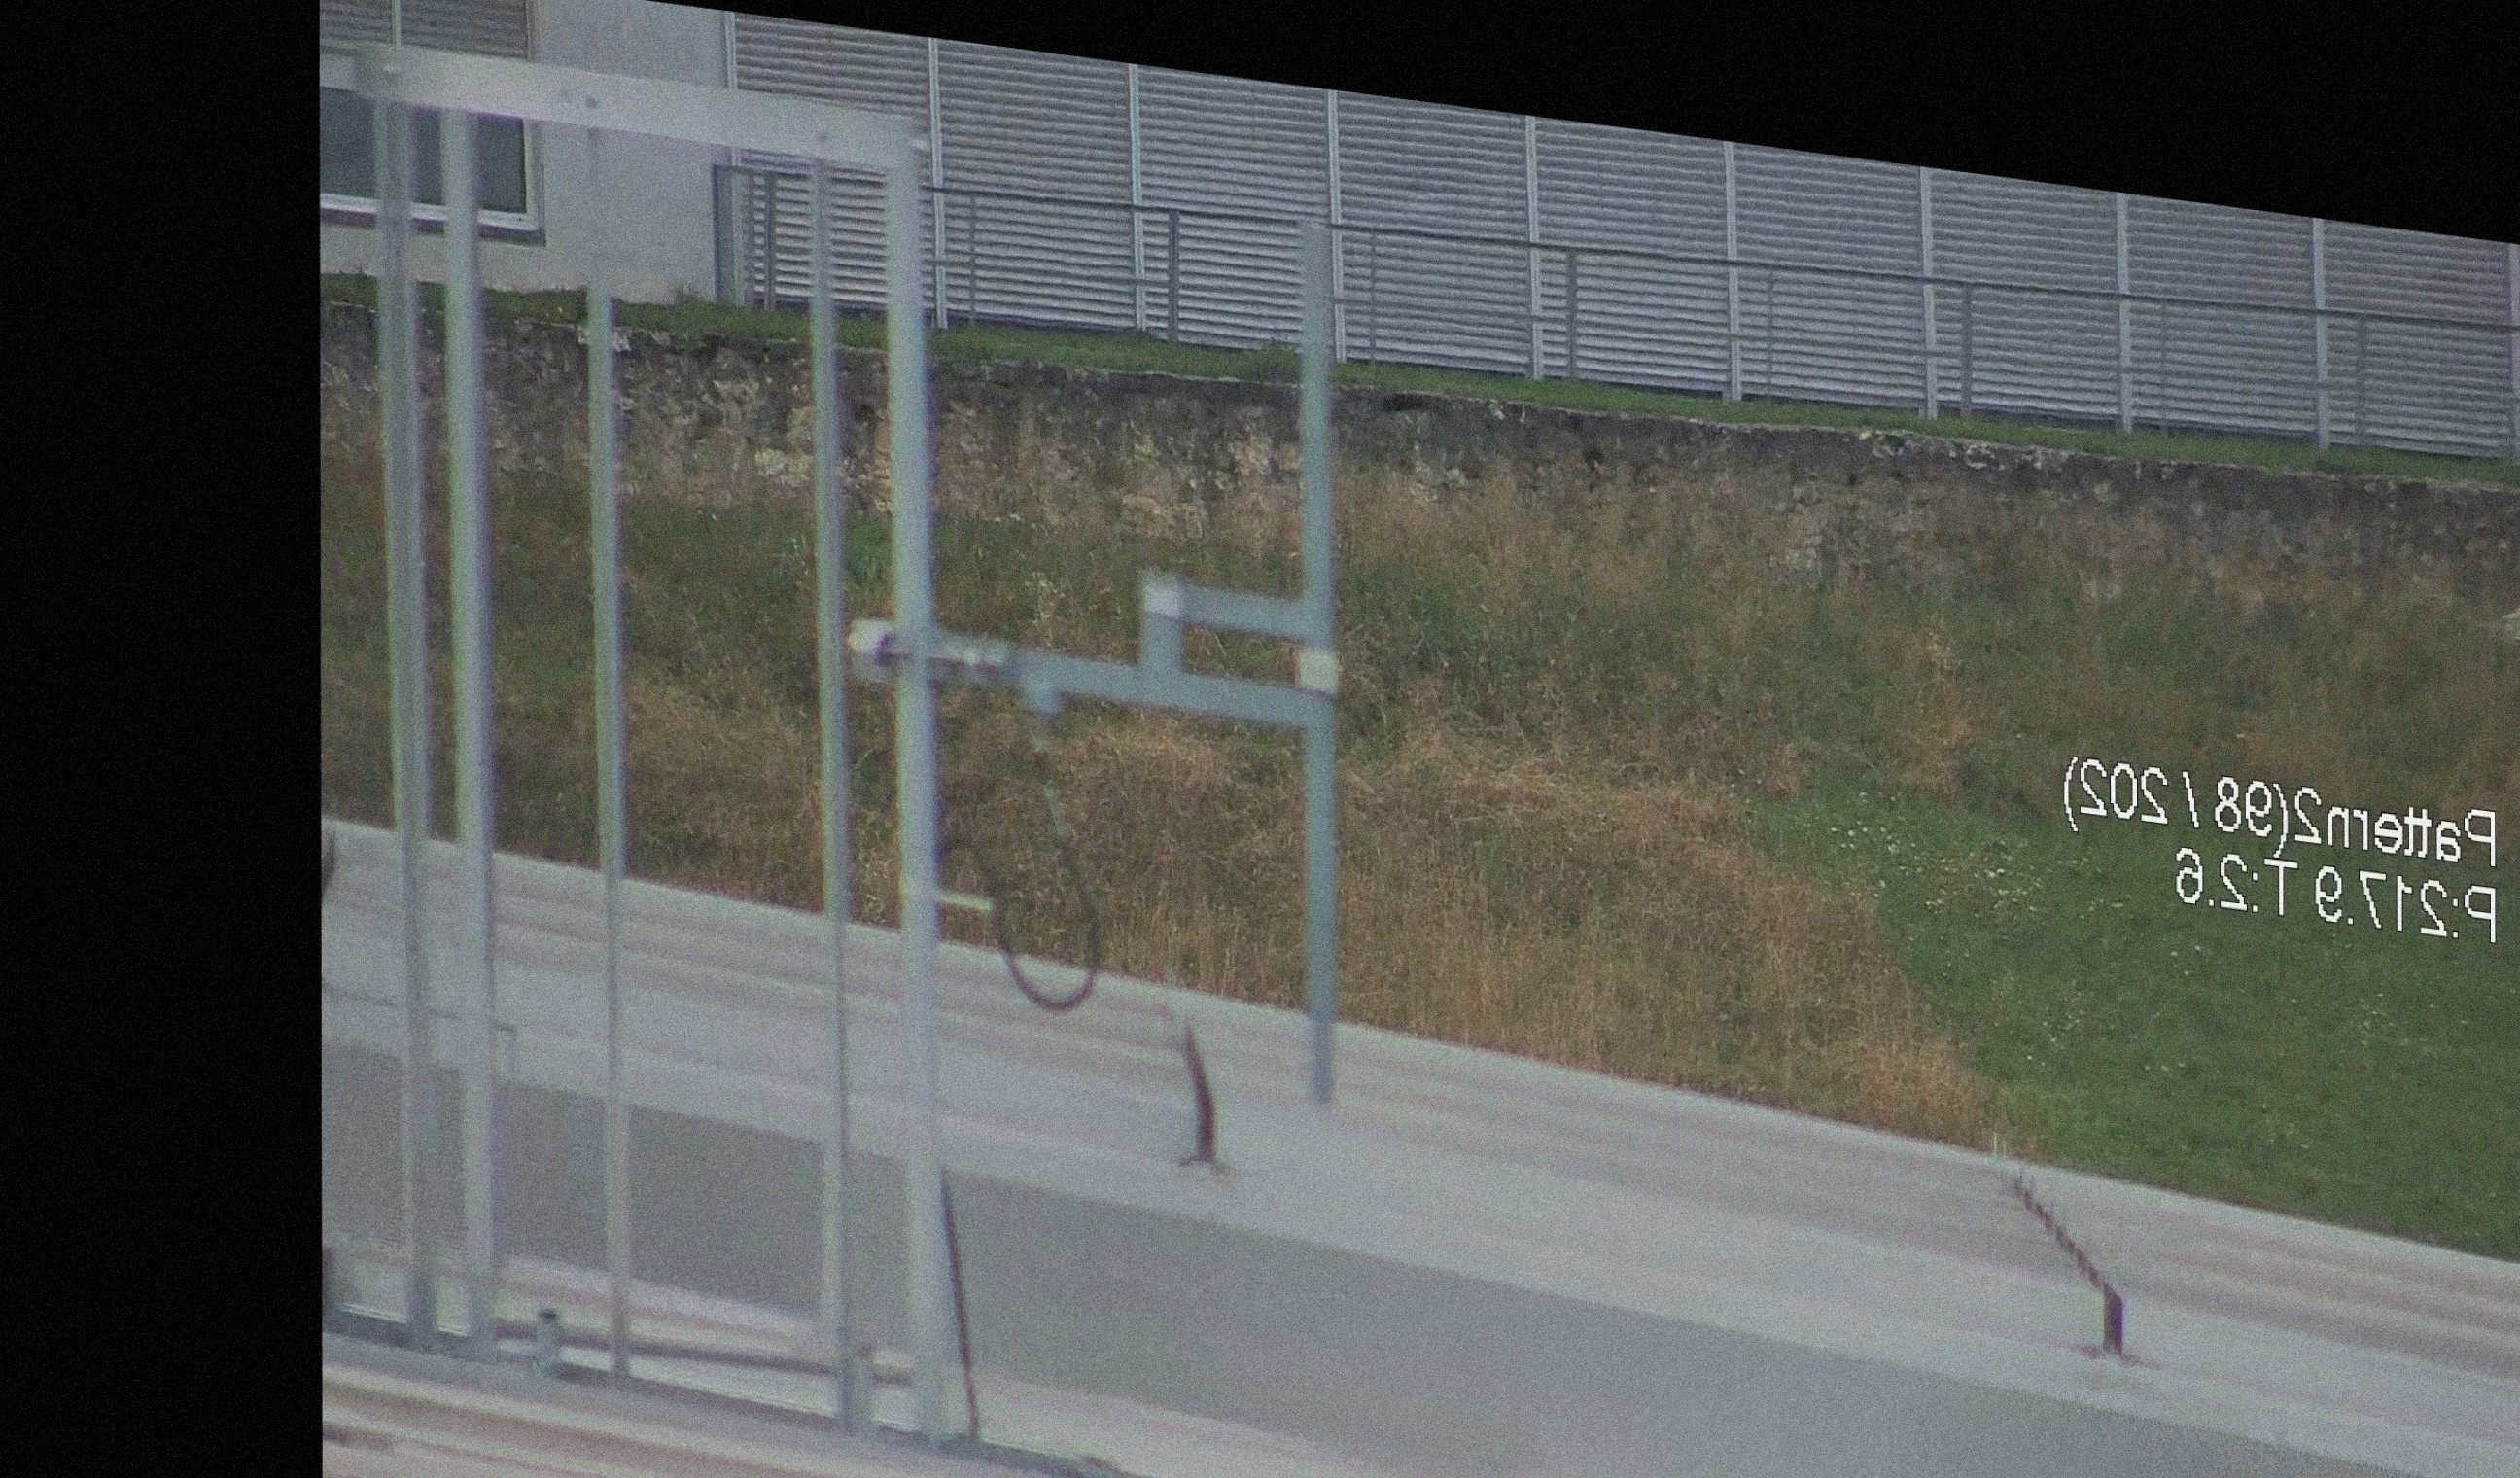Other: (1159, 987, 1226, 1188)
